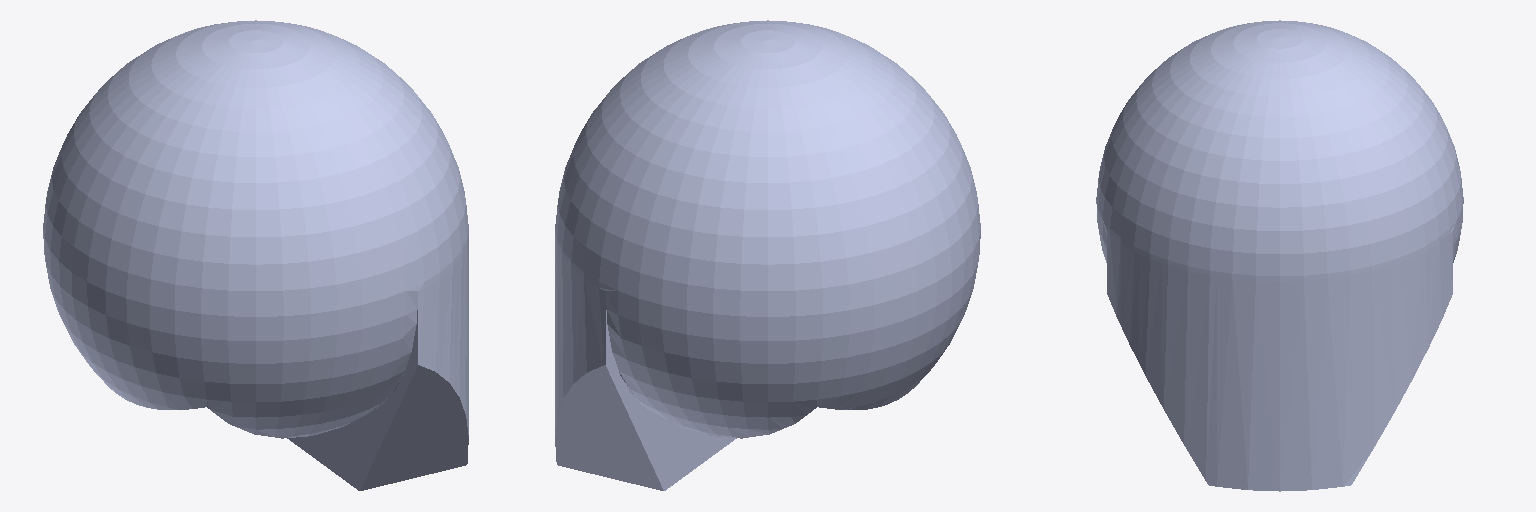
The robot description file, URDF, robot "human":
<?xml version="1.0" ?>
<robot name="human">
  <link
    name="head_link">
    <inertial>
      <origin
        xyz="0.00 0.0 2.0"
        rpy="0 0 0" />
      <mass
        value="3.9328527892651" />
      <inertia
        ixx="0.0165678861121358"
        ixy="8.90148620513218E-10"
        ixz="-0.0027682732644648"
        iyy="0.0177023015774365"
        iyz="-5.42183952528328E-09"
        izz="0.0166046206450058" />
    </inertial>
    <visual>
      <origin
        xyz="0 0 2"
        rpy="0 0 0" />
      <geometry>
        <mesh
          filename="package://hrl_gazebo_autobed/urdf/meshes/head_link.STL" />
      </geometry>
      <material
        name="">
        <color
          rgba="0.792156862745098 0.819607843137255 0.933333333333333 1" />
      </material>
    </visual>
    <collision>
      <origin
        xyz="0 0 2"
        rpy="0 0 0" />
      <geometry>
        <mesh
          filename="package://hrl_gazebo_autobed/urdf/meshes/head_link.STL" />
      </geometry>
    </collision>
  </link>
</robot>

--- Facts derived from the render (not from the file) ---
Views: 3 orthographic renders of the robot side by side, from view 1: azimuth 30°, elevation 25°; view 2: azimuth 150°, elevation 25°; view 3: azimuth 270°, elevation 25°.
Model human with 1 links and 0 joints (none), rooted at head_link, posed every joint at zero.
Links seen in each view (by area): view 1: head_link; view 2: head_link; view 3: head_link.
Boxes of the visible links, bbox=[...] form: head_link: bbox=[43, 20, 468, 490]; head_link: bbox=[555, 20, 980, 490]; head_link: bbox=[1096, 20, 1463, 491].
Bounding box of the posed robot: 0.1955 × 0.1955 × 0.221 m (x, y, z).
1 mesh visuals loaded from 1 distinct referenced files (1 binary STL).